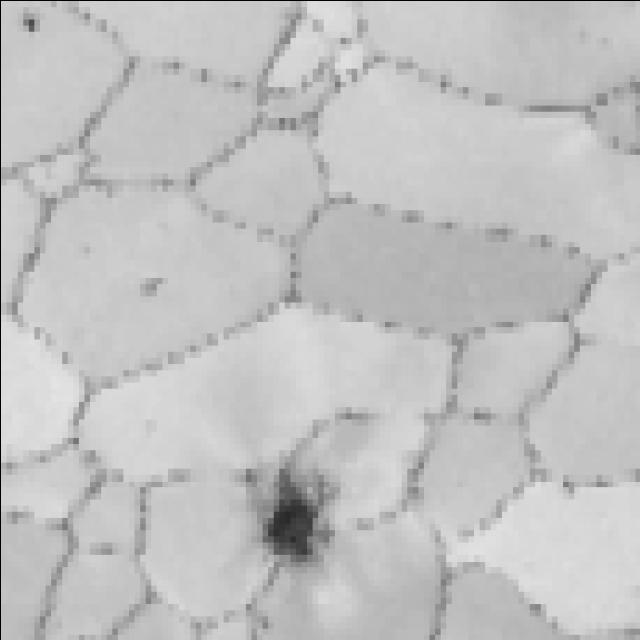good_void: (239, 455, 346, 567), (13, 8, 42, 36), (139, 272, 164, 298)
